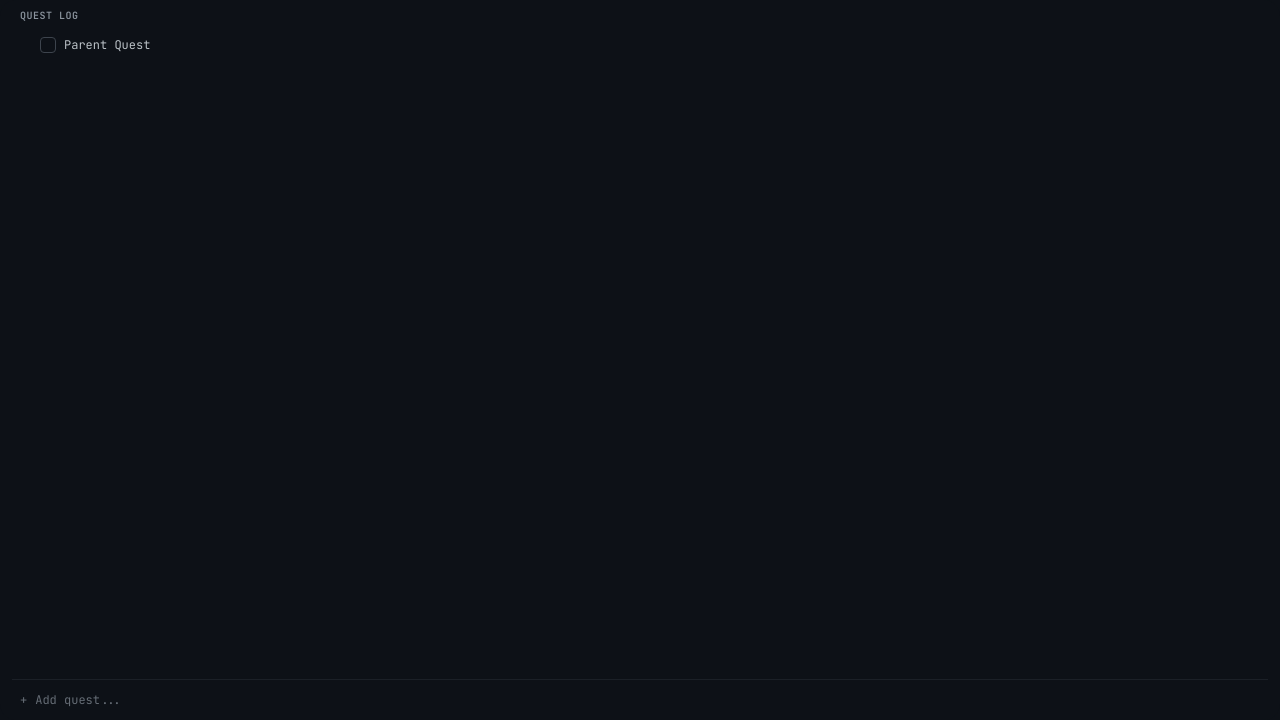
Test: QuestLog Keyboard Shortcuts › Tab (Toggle Sub-Quest Mode) › opens add quest input when clicking the add button
The image size is (1280, 720).
Click the button "+ Add quest..." at (78, 700), box [20,688,1260,712]
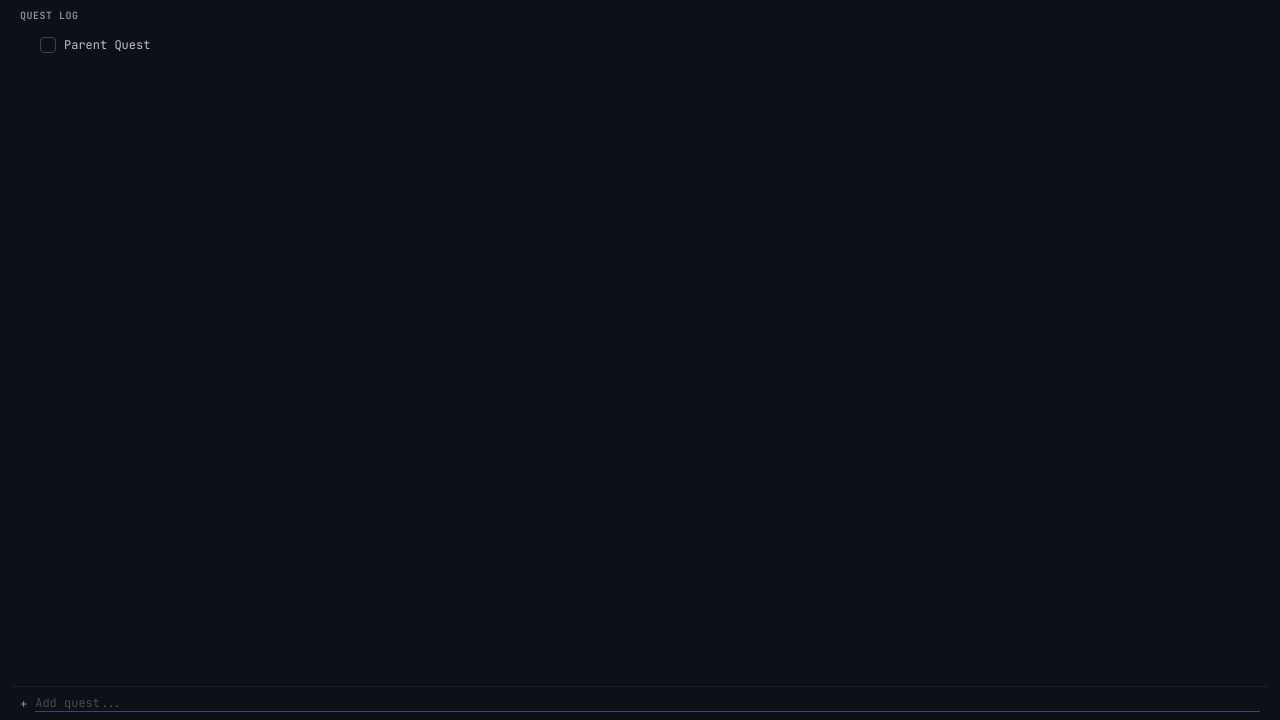
Result: the field with placeholder "Add quest..." is shown at [35,695,1260,712]
